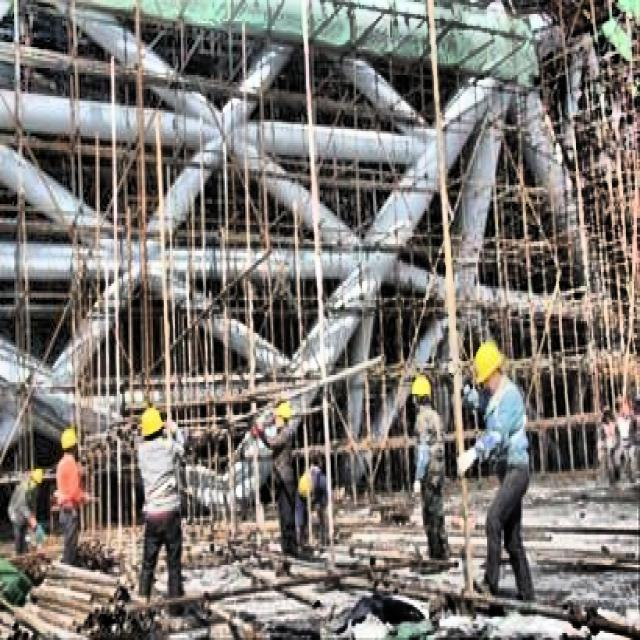helmet: (473, 342, 506, 396), (139, 408, 164, 445), (409, 373, 432, 408), (273, 401, 292, 431), (60, 429, 76, 459), (28, 464, 44, 490)
